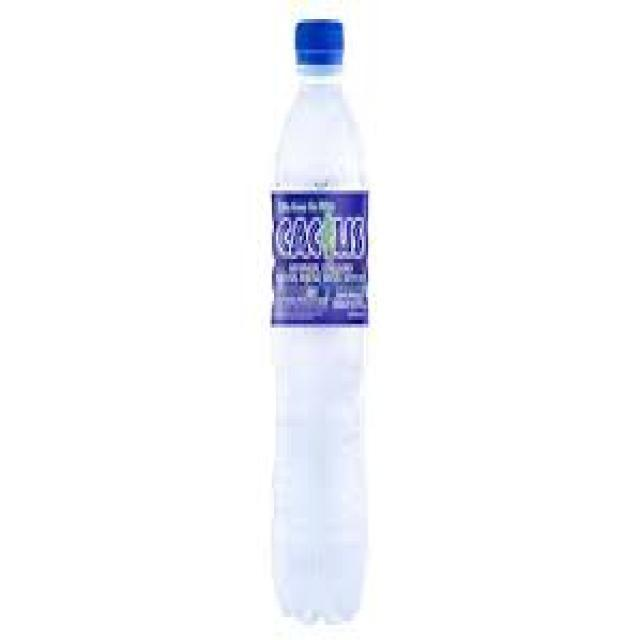bottle: (251, 15, 398, 640)
